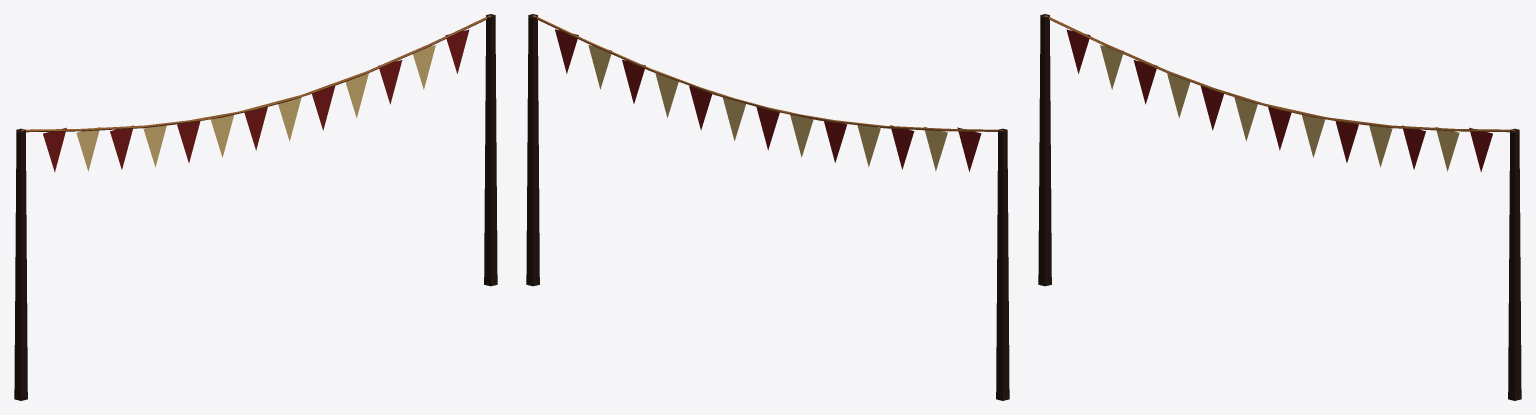
The model's file is Bandeirolas_de_rua_LOD1.fbx.
3 views of the same model, side by side, from view 1: azimuth 30°, elevation 25°; view 2: azimuth 150°, elevation 25°; view 3: azimuth 330°, elevation 25° (orthographic).
Parts seen in each view (by area): view 1: Bandeirolas_de_rua_LOD1; view 2: Bandeirolas_de_rua_LOD1; view 3: Bandeirolas_de_rua_LOD1.
Part boxes in pixels (x1,y1,x2,y2): Bandeirolas_de_rua_LOD1: [14, 14, 497, 400]; Bandeirolas_de_rua_LOD1: [526, 14, 1009, 400]; Bandeirolas_de_rua_LOD1: [1038, 14, 1521, 400].
Bounding box in the file's own units: 720 × 382 × 17.32.
Materials: 1 (1 with a texture image).
